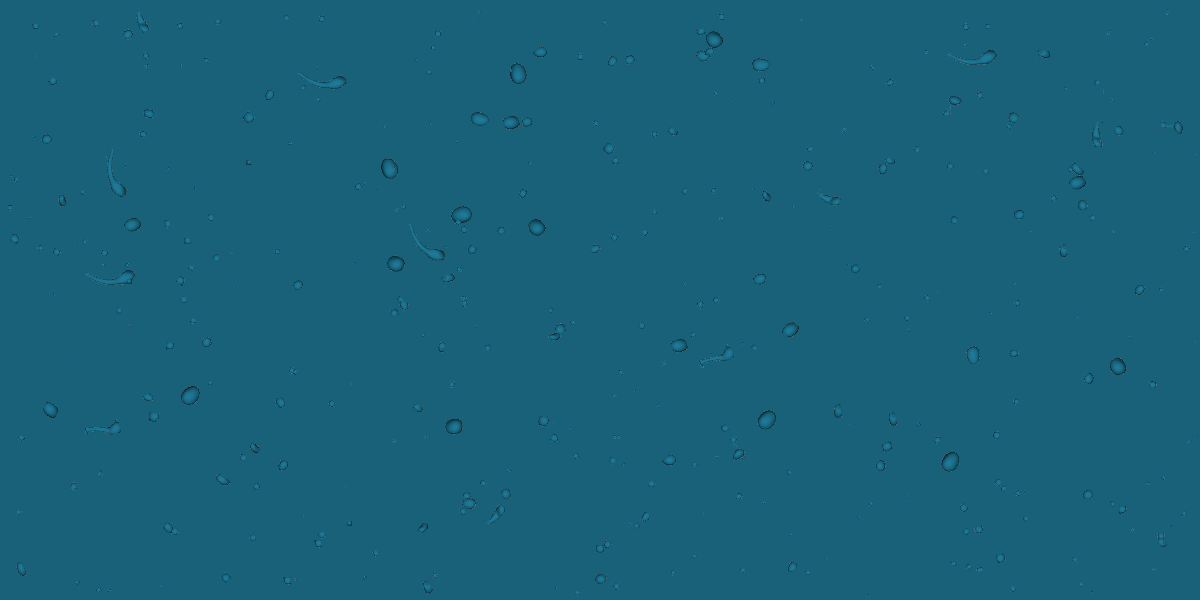Detached ligament: (87, 144, 142, 200), (942, 32, 999, 83), (80, 252, 137, 303), (292, 57, 348, 103), (396, 222, 451, 263), (697, 343, 736, 374), (83, 418, 122, 442), (723, 434, 750, 462), (482, 503, 508, 528), (940, 93, 963, 119), (815, 188, 842, 208), (1160, 116, 1184, 137), (133, 7, 151, 34), (1092, 122, 1103, 147)
drop: (934, 447, 965, 477), (751, 406, 781, 434), (521, 213, 549, 241), (448, 202, 477, 229), (504, 60, 531, 89), (175, 382, 204, 409), (699, 25, 726, 53), (380, 251, 408, 277), (1104, 352, 1129, 379), (377, 156, 401, 183), (960, 344, 983, 367), (122, 214, 144, 236), (1067, 172, 1089, 194), (780, 319, 802, 341), (750, 56, 772, 77), (40, 400, 61, 421), (441, 418, 464, 437), (669, 336, 690, 356), (501, 113, 522, 133), (1066, 160, 1086, 180), (239, 110, 259, 130), (599, 141, 619, 161), (211, 472, 232, 490), (39, 130, 58, 149), (1110, 122, 1129, 141), (532, 43, 551, 62), (661, 451, 680, 470), (694, 46, 713, 65), (417, 579, 435, 599), (800, 157, 819, 175), (290, 275, 308, 294), (470, 112, 489, 130), (460, 494, 479, 512), (1080, 369, 1098, 387), (53, 191, 71, 209), (545, 328, 563, 346), (12, 559, 28, 579), (1003, 110, 1020, 128), (440, 272, 459, 288), (883, 411, 899, 430), (121, 25, 137, 43), (536, 415, 554, 431), (549, 320, 567, 336), (1035, 48, 1053, 64), (872, 457, 889, 473), (1054, 243, 1069, 261), (161, 519, 177, 535), (758, 188, 774, 204), (197, 336, 214, 351), (147, 411, 164, 426), (1011, 207, 1026, 223), (136, 127, 152, 142), (954, 502, 970, 517), (752, 271, 768, 286), (246, 440, 262, 455), (273, 395, 288, 411), (624, 51, 638, 68), (1133, 283, 1148, 298), (516, 186, 530, 202), (973, 524, 987, 539), (549, 432, 564, 446), (416, 521, 430, 536), (785, 560, 799, 575), (605, 54, 619, 69), (877, 162, 891, 176), (277, 459, 291, 473), (140, 392, 155, 405), (589, 243, 602, 258), (395, 299, 410, 312), (830, 404, 842, 420), (694, 298, 707, 312), (326, 398, 339, 412), (477, 478, 491, 491), (710, 295, 724, 308), (411, 402, 425, 415), (1155, 537, 1169, 550), (880, 440, 894, 453), (1082, 488, 1097, 500), (1075, 198, 1090, 210), (639, 508, 651, 523), (1180, 243, 1193, 256), (139, 49, 152, 62), (175, 274, 188, 287), (167, 527, 180, 540), (458, 224, 471, 237), (352, 181, 365, 194), (943, 160, 956, 173), (47, 76, 60, 89), (264, 89, 277, 102), (142, 108, 155, 121), (920, 293, 933, 306), (219, 571, 232, 584), (883, 77, 897, 89), (666, 126, 680, 138), (520, 116, 534, 128), (9, 232, 21, 245), (702, 46, 716, 57), (458, 297, 470, 309), (286, 365, 298, 377), (1047, 192, 1059, 204), (88, 18, 100, 30), (695, 27, 707, 39), (571, 451, 583, 463), (638, 227, 650, 239), (601, 539, 613, 551), (995, 552, 1007, 564), (849, 263, 861, 275), (466, 244, 478, 256), (316, 13, 326, 27), (235, 452, 247, 463), (884, 156, 897, 166), (16, 434, 27, 445), (174, 21, 185, 32), (165, 341, 176, 352), (160, 219, 171, 230), (803, 143, 814, 154), (1007, 585, 1018, 596), (186, 264, 197, 275), (686, 330, 697, 341), (179, 295, 190, 306), (317, 530, 328, 541), (910, 144, 921, 155), (611, 582, 622, 593), (667, 566, 678, 577), (79, 235, 90, 246), (448, 379, 459, 390), (737, 566, 748, 577), (251, 481, 262, 492), (1011, 298, 1022, 309), (993, 477, 1004, 488), (719, 423, 730, 434), (501, 488, 511, 500), (595, 574, 607, 584), (754, 76, 767, 85), (437, 341, 446, 354), (1007, 349, 1020, 358), (395, 295, 405, 306), (461, 488, 471, 499), (203, 213, 214, 223), (370, 549, 380, 560), (973, 564, 984, 574), (1009, 397, 1020, 407), (901, 314, 911, 325), (607, 456, 617, 467), (210, 253, 221, 263), (188, 317, 199, 327), (51, 247, 62, 257), (458, 292, 469, 302), (566, 318, 577, 328), (975, 90, 985, 101), (99, 248, 110, 258), (735, 491, 745, 502), (960, 22, 970, 33), (981, 166, 991, 177), (961, 527, 972, 537), (1087, 213, 1098, 223), (313, 539, 323, 549), (1118, 505, 1128, 515), (282, 576, 292, 586), (1070, 556, 1080, 566), (708, 185, 718, 195), (963, 562, 973, 572), (991, 430, 1001, 440), (1148, 379, 1158, 389), (637, 321, 647, 331), (717, 215, 727, 225), (949, 215, 959, 225), (595, 544, 605, 554), (647, 480, 658, 489), (69, 481, 78, 492), (248, 533, 257, 544), (458, 507, 467, 518), (599, 17, 608, 28), (609, 233, 620, 242), (612, 156, 621, 166), (933, 435, 942, 445), (717, 12, 726, 22), (575, 52, 584, 62), (591, 119, 600, 129), (650, 130, 659, 140), (35, 243, 44, 253), (658, 359, 668, 368), (399, 203, 408, 212), (1004, 122, 1013, 131), (949, 559, 958, 568), (1180, 510, 1189, 519), (496, 226, 505, 235), (314, 96, 323, 105), (689, 552, 698, 561), (390, 308, 399, 317), (282, 13, 291, 22), (680, 187, 689, 196), (750, 343, 759, 352), (214, 19, 224, 27), (31, 23, 41, 31), (997, 484, 1007, 492), (1156, 532, 1166, 540), (51, 32, 61, 40), (784, 467, 792, 477), (433, 30, 443, 38), (737, 453, 746, 461), (804, 570, 813, 578), (273, 248, 281, 257), (94, 586, 103, 594), (1014, 489, 1022, 498), (983, 22, 991, 31), (5, 203, 13, 212), (291, 368, 299, 377), (862, 316, 871, 324), (430, 572, 439, 580), (1065, 166, 1074, 174), (205, 378, 213, 387), (389, 437, 398, 445), (183, 237, 192, 245), (633, 521, 641, 530), (546, 306, 555, 314), (1149, 566, 1157, 574), (389, 164, 397, 172), (921, 48, 929, 56), (74, 579, 82, 587), (915, 421, 923, 429), (769, 99, 777, 107), (361, 574, 369, 582), (574, 590, 582, 598), (617, 368, 625, 376), (1077, 581, 1085, 589), (840, 126, 848, 134), (454, 219, 462, 227), (1142, 40, 1150, 48), (1159, 474, 1167, 482), (868, 64, 876, 72), (202, 56, 210, 64), (226, 249, 234, 257), (1108, 97, 1116, 105), (393, 206, 401, 214), (123, 261, 131, 269), (164, 166, 172, 174), (1192, 151, 1200, 159), (157, 582, 165, 590), (654, 402, 662, 410), (681, 281, 689, 289), (115, 307, 123, 315), (1022, 516, 1029, 525), (424, 70, 433, 77), (867, 499, 874, 507), (712, 89, 719, 97), (15, 510, 23, 517), (1097, 137, 1104, 145), (455, 266, 463, 273), (12, 176, 20, 183), (103, 155, 110, 163), (429, 43, 436, 51), (1109, 500, 1116, 508), (299, 84, 307, 91), (1093, 79, 1101, 86), (98, 470, 104, 479), (614, 433, 621, 440), (106, 587, 113, 594), (611, 433, 618, 440), (691, 461, 698, 468), (79, 189, 86, 196), (420, 333, 427, 340), (1128, 527, 1135, 534), (1062, 85, 1069, 92), (505, 467, 512, 474), (143, 62, 150, 69), (1157, 286, 1164, 293), (287, 140, 294, 147), (126, 278, 133, 285), (346, 520, 353, 527), (245, 159, 252, 166), (651, 208, 657, 215), (526, 159, 532, 166), (798, 15, 804, 22), (876, 283, 882, 290), (1100, 88, 1106, 95), (381, 123, 388, 129), (760, 500, 767, 506), (739, 340, 746, 346), (855, 514, 861, 521), (620, 461, 627, 467), (1106, 29, 1112, 36), (485, 344, 491, 351), (979, 51, 985, 57), (69, 487, 75, 493), (73, 242, 79, 248), (476, 8, 482, 14), (567, 425, 573, 431), (714, 454, 720, 460), (627, 521, 633, 527), (178, 63, 184, 69), (453, 139, 459, 145), (292, 576, 298, 582), (413, 58, 419, 64), (1028, 229, 1034, 235), (727, 97, 733, 103), (854, 592, 860, 598), (829, 224, 835, 230), (351, 260, 357, 266), (987, 310, 993, 316), (864, 592, 870, 598), (846, 423, 852, 429), (611, 393, 617, 399), (31, 134, 37, 140), (1127, 335, 1133, 341), (361, 181, 367, 187), (443, 244, 448, 250), (553, 586, 559, 591), (1146, 480, 1151, 486), (127, 323, 132, 329), (236, 285, 242, 290), (507, 68, 513, 73), (1013, 281, 1019, 286), (1151, 150, 1156, 156), (300, 513, 305, 519), (1111, 229, 1116, 235), (1149, 37, 1155, 42), (51, 291, 56, 297), (1169, 523, 1174, 529), (633, 388, 638, 394), (1089, 589, 1095, 594), (473, 325, 478, 331), (104, 430, 110, 435), (427, 120, 432, 126), (1165, 9, 1170, 15), (906, 328, 911, 334), (1192, 339, 1197, 344), (903, 493, 908, 498), (8, 173, 13, 178), (790, 204, 795, 209), (63, 356, 68, 361), (788, 533, 793, 538), (32, 53, 37, 58), (192, 186, 197, 191), (1075, 315, 1080, 320), (471, 19, 476, 24), (1186, 439, 1192, 443), (424, 435, 430, 439), (1192, 231, 1197, 235), (374, 188, 379, 192), (1023, 489, 1027, 494), (349, 381, 353, 386), (1195, 434, 1199, 439), (28, 216, 32, 221), (343, 484, 347, 489), (751, 188, 756, 192), (701, 512, 705, 516), (157, 412, 161, 416), (961, 98, 965, 102), (935, 289, 939, 293), (846, 263, 850, 267), (826, 556, 829, 560), (551, 421, 554, 424), (618, 583, 621, 586)
